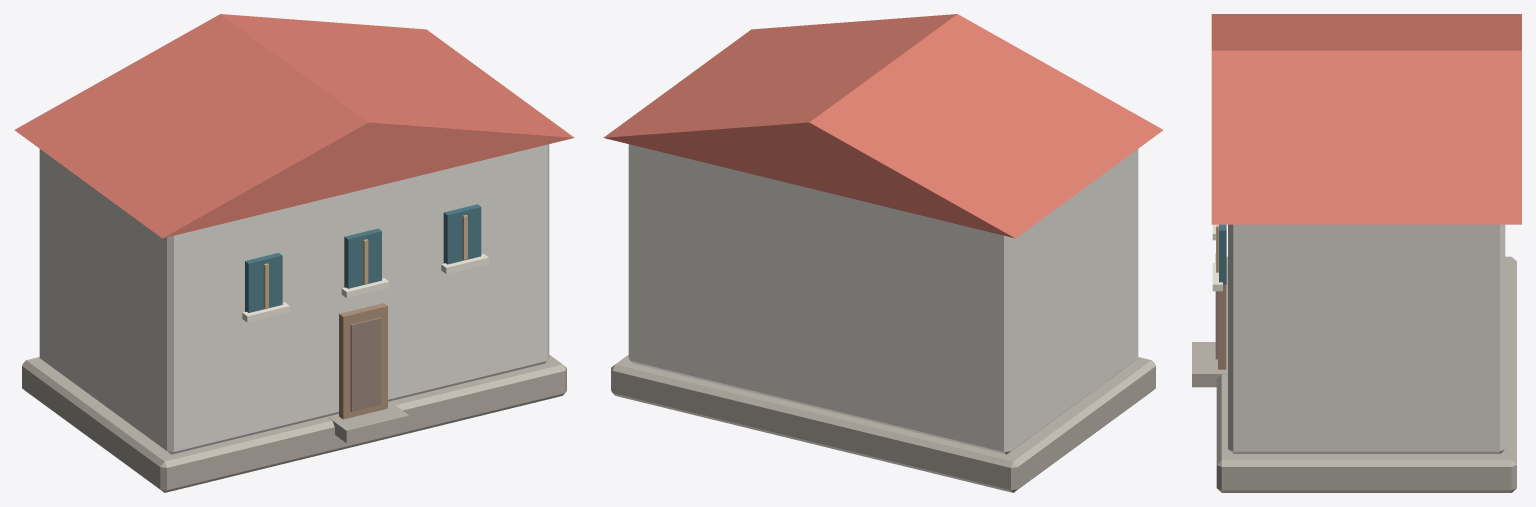
Rendered from tea_hut_cliffs_near-kgjvCmaO.glb.
3 renders of one model, left to right at view 1: azimuth 30°, elevation 25°; view 2: azimuth 150°, elevation 25°; view 3: azimuth 270°, elevation 25°, orthographic. The views are drawn at different scales.
Visible parts, largest first — view 1: tea_hut_cliffs_near; view 2: tea_hut_cliffs_near; view 3: tea_hut_cliffs_near.
Part boxes in pixels (<box>): tea_hut_cliffs_near: <box>14,14,574,492</box>; tea_hut_cliffs_near: <box>603,14,1163,492</box>; tea_hut_cliffs_near: <box>1192,14,1521,492</box>.
Size of the model in its own units: 7.55 by 5.69 by 4.99.
